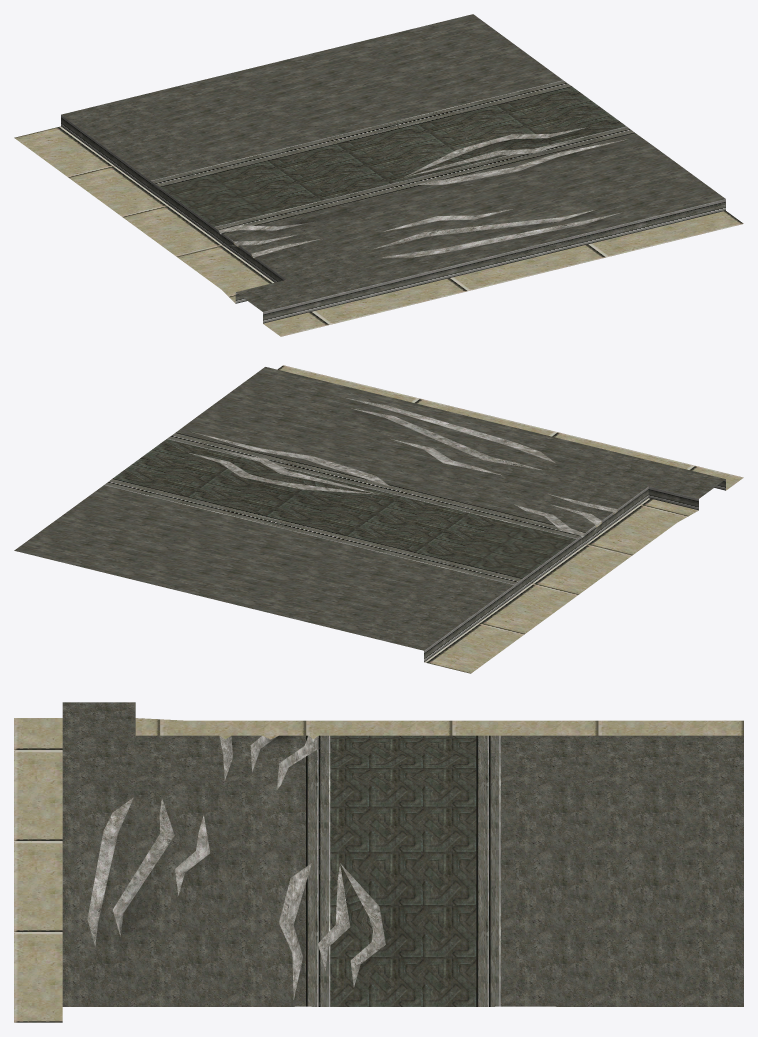
The model's file is DWARF_PALACE_MAINHALL_FLOOR01.fbx.
3 views of the same model, one above another, from view 1: azimuth 30°, elevation 25°; view 2: azimuth 150°, elevation 25°; view 3: azimuth 270°, elevation 25° (orthographic). The views are drawn at different scales.
Parts seen in each view (by area): view 1: DWARF_PALACE_MAINHALL_FLOOR01; view 2: DWARF_PALACE_MAINHALL_FLOOR01; view 3: DWARF_PALACE_MAINHALL_FLOOR01.
Boxes of the visible parts, x1,y1,x2,y2 form: DWARF_PALACE_MAINHALL_FLOOR01: [14, 14, 743, 336]; DWARF_PALACE_MAINHALL_FLOOR01: [14, 365, 743, 673]; DWARF_PALACE_MAINHALL_FLOOR01: [14, 702, 743, 1022].
Size of the model in its own units: 296267 by 7129 by 300000.
6 materials, 6 textured.
